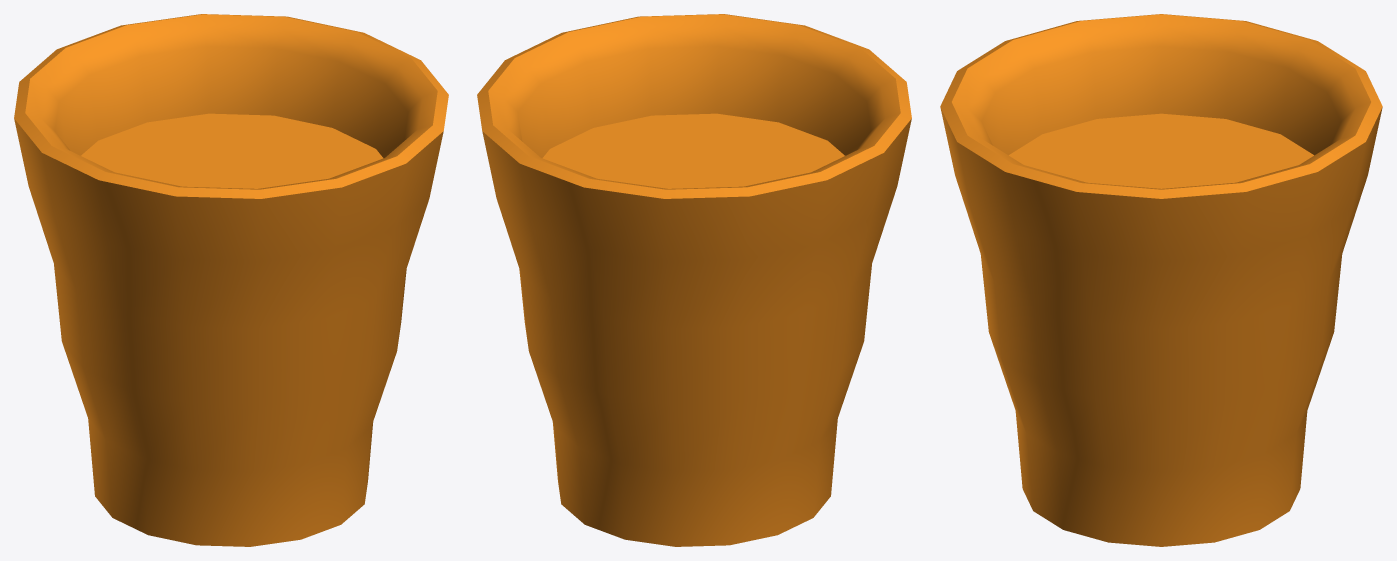
The model's file is CoralCupA.FBX.
3 views of the same model, side by side, from view 1: azimuth 30°, elevation 25°; view 2: azimuth 150°, elevation 25°; view 3: azimuth 270°, elevation 25° (orthographic).
Parts seen in each view (by area): view 1: CoralA; view 2: CoralA; view 3: CoralA.
Part boxes in pixels (left/top/right/bottom): CoralA: left=14, top=14, right=448, bottom=546; CoralA: left=477, top=14, right=911, bottom=546; CoralA: left=940, top=14, right=1382, bottom=546.
Size of the model in its own units: 42.17 by 41.12 by 42.63.
Materials: 1 (1 with a texture image).
